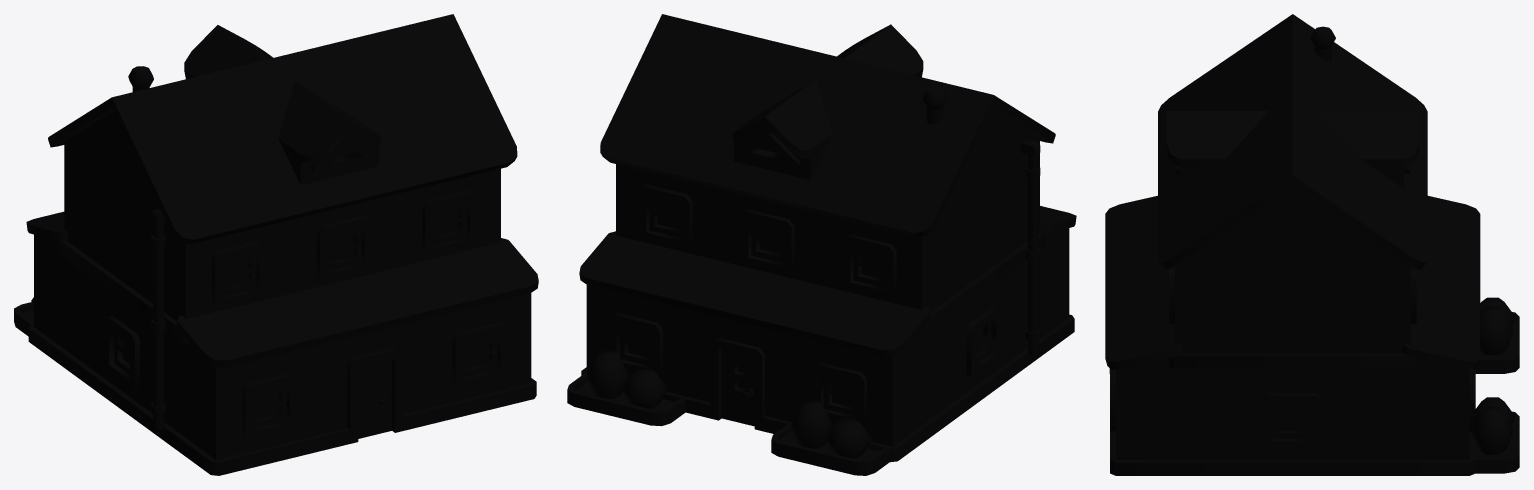
File: building-type-t.glb
3 renders of one model, left to right at view 1: azimuth 30°, elevation 25°; view 2: azimuth 150°, elevation 25°; view 3: azimuth 270°, elevation 25°, orthographic. The views are drawn at different scales.
Parts seen in each view (by area): view 1: building-type-t; view 2: building-type-t; view 3: building-type-t.
Boxes of the visible parts, left/top/right/bottom form: building-type-t: left=14, top=14, right=538, bottom=475; building-type-t: left=567, top=14, right=1076, bottom=475; building-type-t: left=1105, top=14, right=1519, bottom=475.
Bounding box in the file's own units: 1.31 × 1.16 × 1.41.
Materials: 1 (1 with a texture image).
